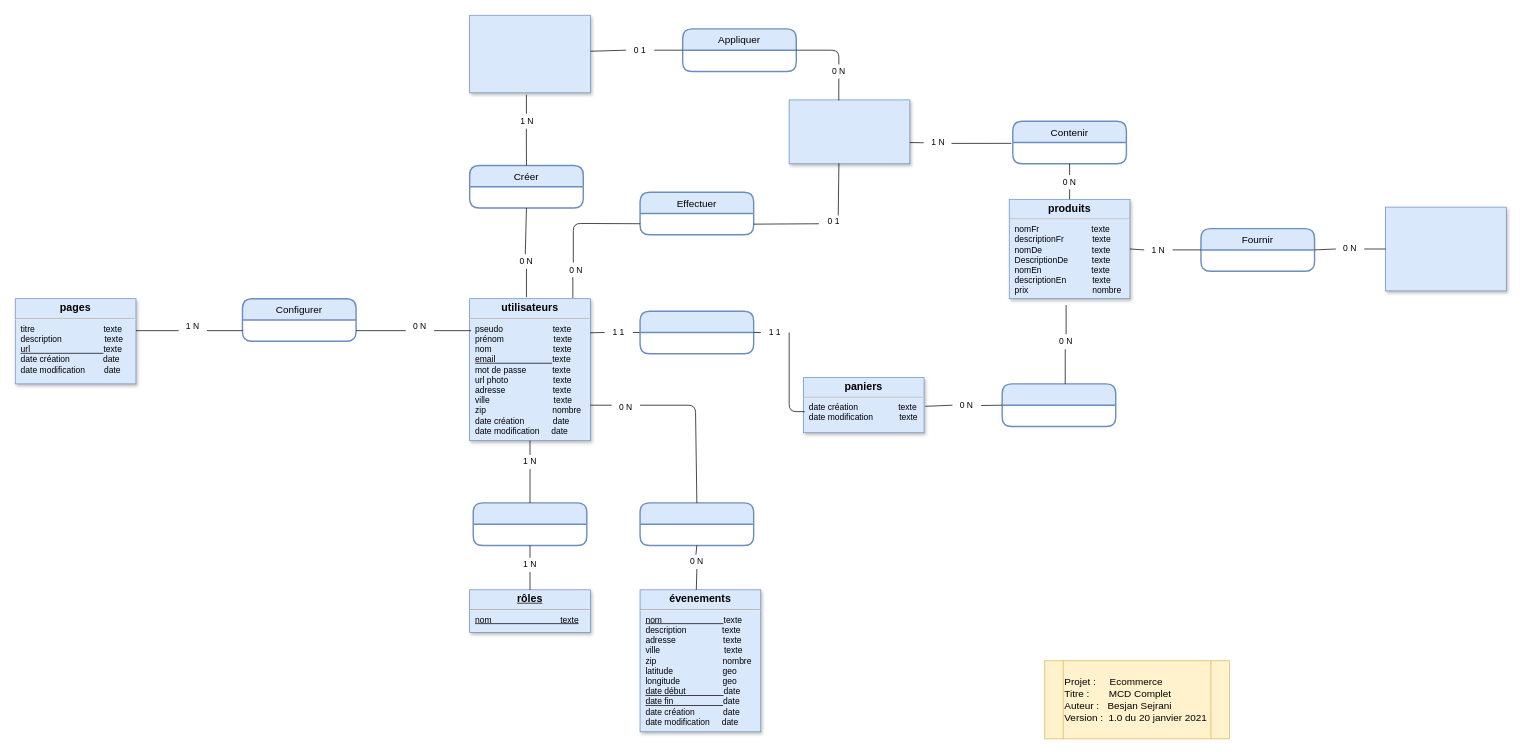
This 1523x752 diagram has some shape labels left out. Each missing label, with the centre of its shape:
Ajouter: pixel 1058 405
Avoir: pixel 529 524
commandes quantité nombre date création nombre numéro suivi texte: pixel 850 132
fournisseurs nom texte email texte adresse texte téléphone texte pays texte: pixel 1446 250
Participer: pixel 696 524
Posséder: pixel 696 332
réductions rabais nombre date début date date fin date date création date: pixel 530 55
